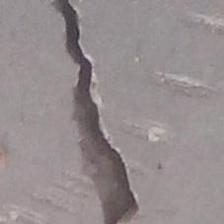Crack: (33, 1, 176, 224)
